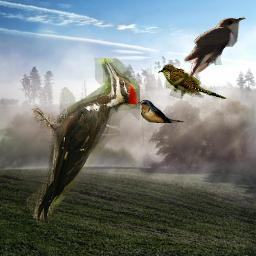Cuckoo: (182, 16, 246, 93), (158, 64, 227, 100)
Swallow: (138, 100, 185, 123)
Woodpecker: (27, 58, 140, 225)
